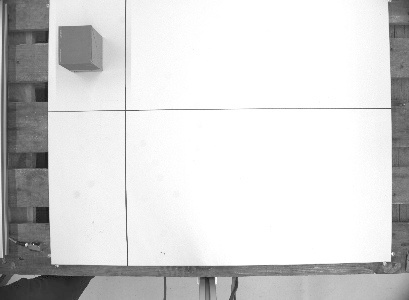b7: (53, 21, 106, 75)
